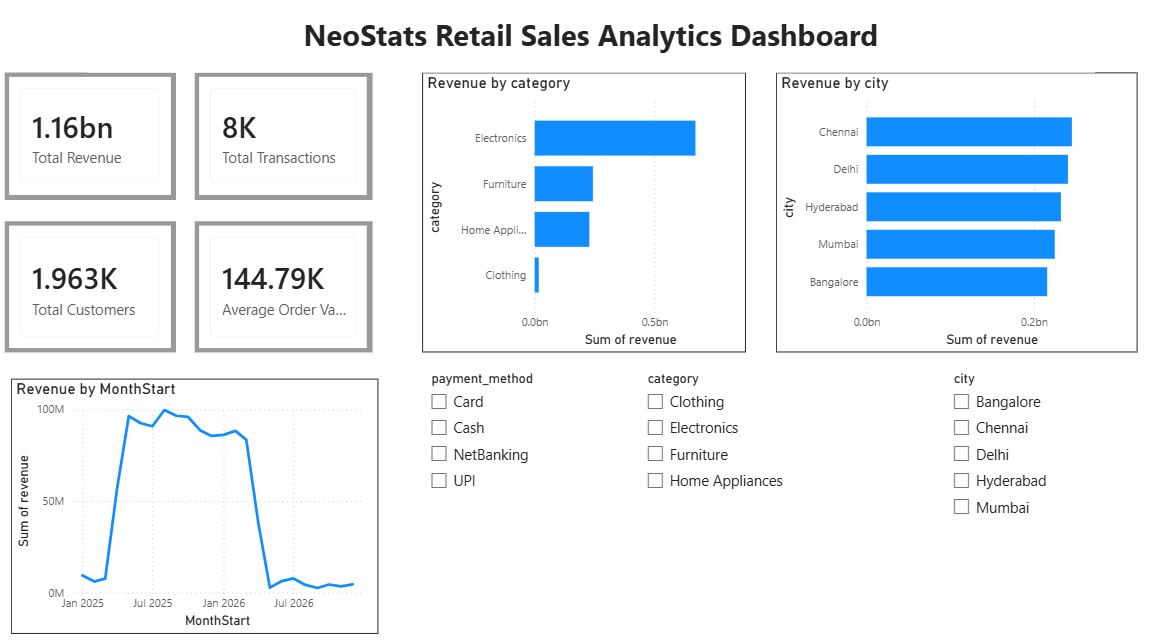

This screenshot's page, from the dashboard's own definition file:
{"tool":"powerbi","page":{"name":"Executive Summary","canvas":[1280,720],"ordinal":0},"visuals":[{"type":"cardVisual","fields":{"Data":["Sum(cleaned_retail_data_v2.revenue)"]},"box":[9.6,85.1,188,140],"z":0},{"type":"cardVisual","fields":{"Data":["Count(cleaned_retail_data_v2.transaction_id)"]},"box":[218.2,85.1,194.9,140],"z":1000},{"type":"cardVisual","fields":{"Data":["Count(cleaned_retail_data_v2.customer_id)"]},"box":[9.6,248.4,188,144.1],"z":2000},{"type":"cardVisual","fields":{"Data":["cleaned_retail_data_v2.Average Order Value"]},"box":[218.2,248.4,194.9,144.1],"z":3000},{"type":"clusteredBarChart","title":"Revenue by city","fields":{"Y":["Sum(cleaned_retail_data_v2.revenue)"],"Category":["cleaned_retail_data_v2.city"]},"box":[856.3,85.1,396.6,307.4],"z":4000},{"type":"clusteredBarChart","title":"Revenue by category","fields":{"Category":["cleaned_retail_data_v2.category"],"Y":["Sum(cleaned_retail_data_v2.revenue)"]},"box":[467.9,85.1,355.4,307.4],"z":5000},{"type":"lineChart","title":"Revenue by MonthStart","fields":{"Y":["Sum(cleaned_retail_data_v2.revenue)"],"Category":["cleaned_retail_data_v2.MonthStart"]},"box":[16.5,421.3,403.4,279.9],"z":6000},{"type":"textbox","box":[100.2,16.5,1106,68.6],"z":6001},{"type":"slicer","fields":{"Values":["cleaned_retail_data_v2.city"]},"box":[1038.8,407.5,236,238.8],"z":6002},{"type":"slicer","fields":{"Values":["cleaned_retail_data_v2.category"]},"box":[702.6,407.5,193.5,279.9],"z":6003},{"type":"slicer","fields":{"Values":["cleaned_retail_data_v2.payment_method"]},"box":[465.2,407.5,149.6,161.9],"z":6004}]}

Visuals, with their boxes in screenshot pixels (x1, y1, x2, y2), scaled from the page's 1280x720 canvas onto the 1153x643 screenshot:
cardVisual - Sum(cleaned_retail_data_v2.revenue): {"x1": 9, "y1": 76, "x2": 178, "y2": 201}
cardVisual - Count(cleaned_retail_data_v2.transaction_id): {"x1": 197, "y1": 76, "x2": 372, "y2": 201}
cardVisual - Count(cleaned_retail_data_v2.customer_id): {"x1": 9, "y1": 222, "x2": 178, "y2": 351}
cardVisual - cleaned_retail_data_v2.Average Order Value: {"x1": 197, "y1": 222, "x2": 372, "y2": 351}
"Revenue by city" clusteredBarChart: {"x1": 771, "y1": 76, "x2": 1129, "y2": 351}
"Revenue by category" clusteredBarChart: {"x1": 421, "y1": 76, "x2": 742, "y2": 351}
"Revenue by MonthStart" lineChart: {"x1": 15, "y1": 376, "x2": 378, "y2": 626}
textbox: {"x1": 90, "y1": 15, "x2": 1087, "y2": 76}
slicer - cleaned_retail_data_v2.city: {"x1": 936, "y1": 364, "x2": 1148, "y2": 577}
slicer - cleaned_retail_data_v2.category: {"x1": 633, "y1": 364, "x2": 807, "y2": 614}
slicer - cleaned_retail_data_v2.payment_method: {"x1": 419, "y1": 364, "x2": 554, "y2": 509}
